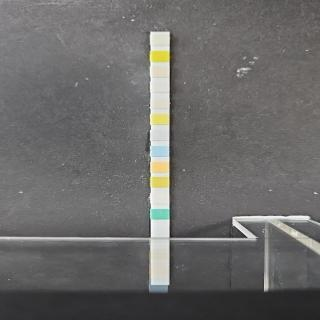mark: (151, 192, 168, 205), (150, 50, 168, 62), (152, 175, 168, 188), (152, 160, 168, 173), (152, 112, 168, 125), (152, 66, 169, 78), (152, 208, 168, 220), (152, 144, 168, 156), (152, 128, 168, 140), (152, 96, 168, 108), (152, 81, 168, 93), (152, 34, 168, 46)
